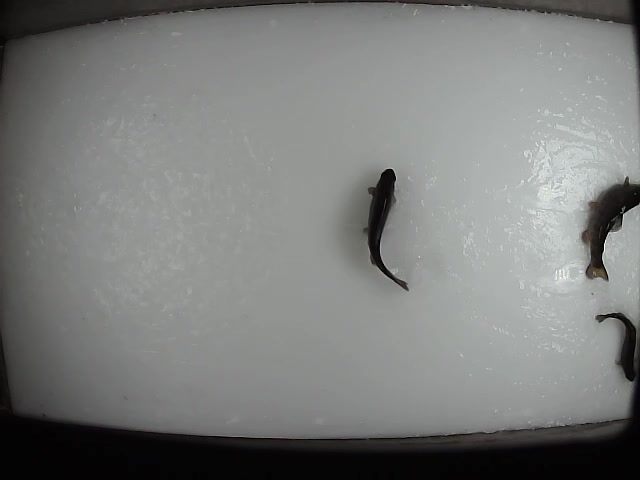Fish: (363, 169, 409, 292), (593, 313, 637, 382)
